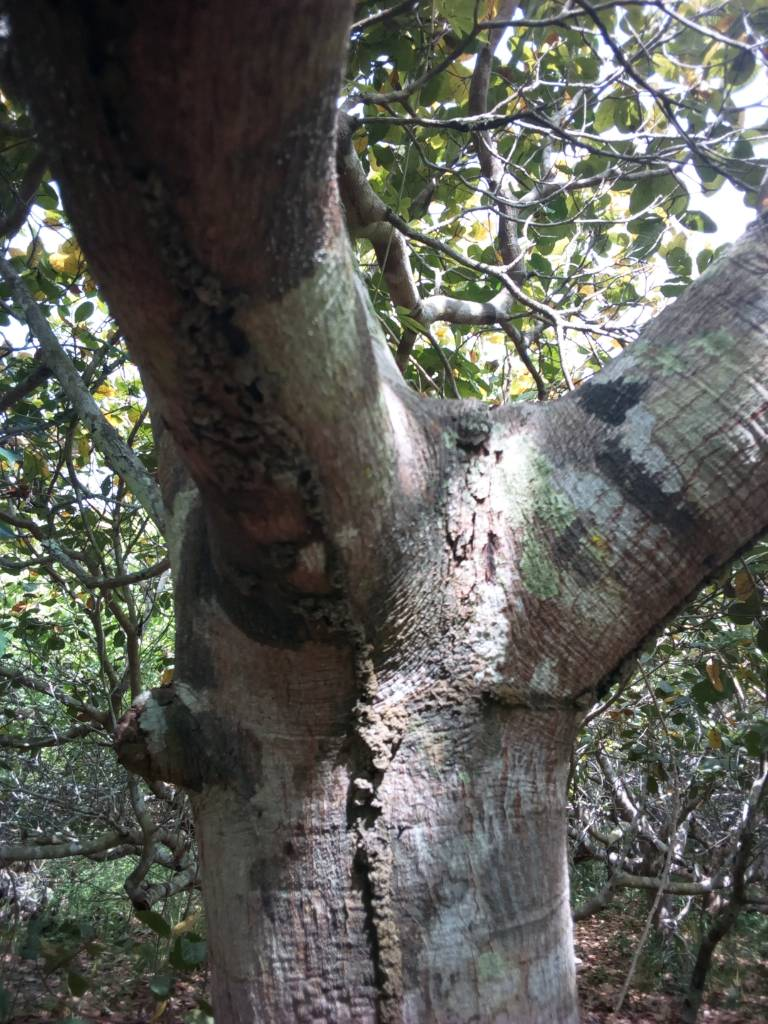Virose: (294, 704, 446, 995)
